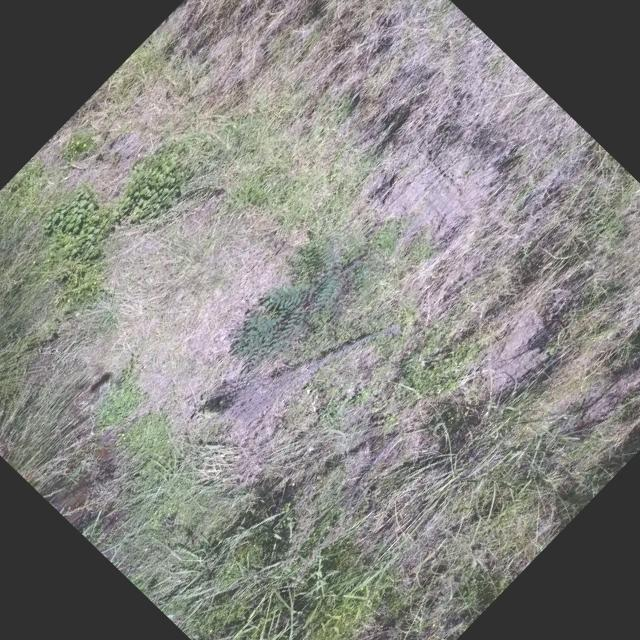Mysore-Thorn-Weed: (212, 220, 388, 399)
